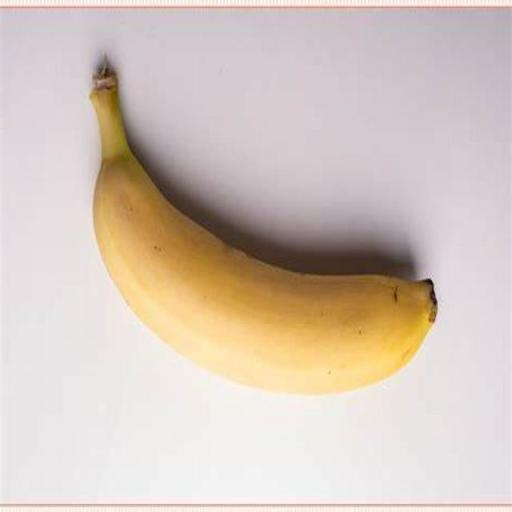fruit: (359, 164, 477, 512)
